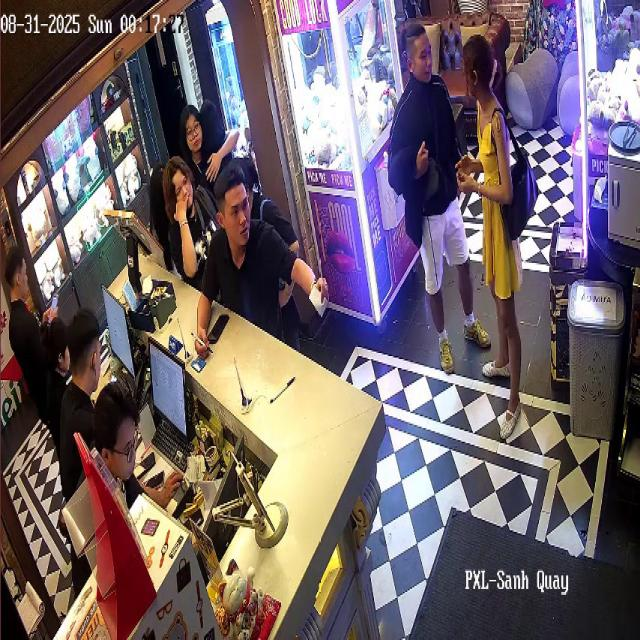khach: (455, 32, 540, 450), (394, 21, 480, 386), (203, 162, 298, 350), (159, 163, 214, 283), (182, 112, 221, 174)
nhan vien: (7, 241, 49, 407), (95, 385, 149, 497), (75, 306, 104, 461), (42, 313, 71, 465)
